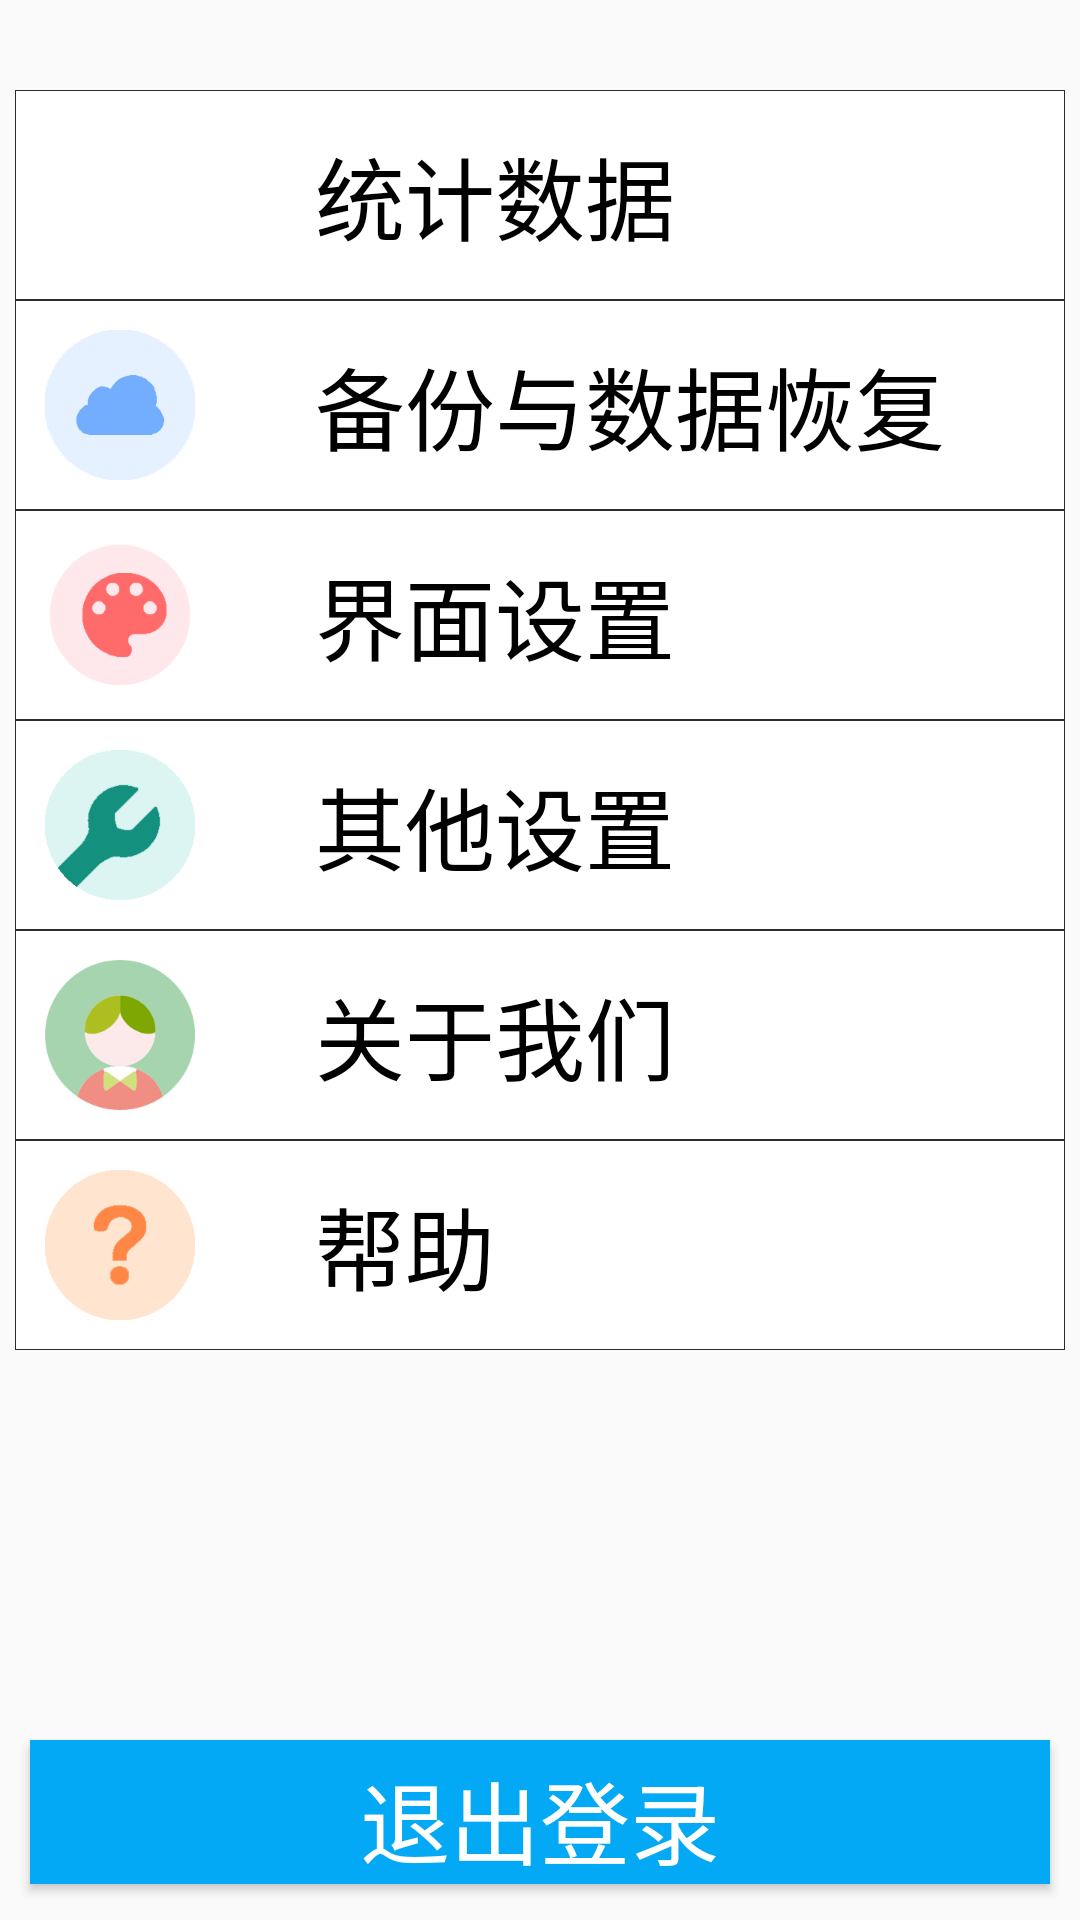

Icon bounding boxes for this 1080 x 1920 phone screenshot, format (x1, y1, x2, y2):
random avator: (45, 960, 195, 1110)
